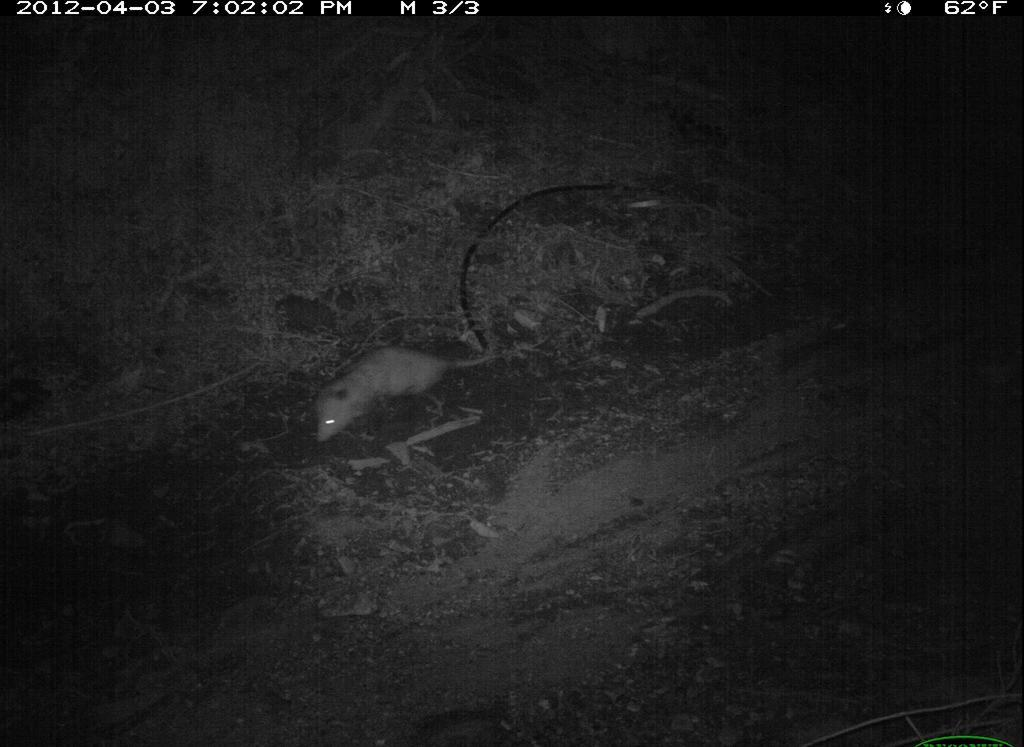opossum: (282, 319, 523, 451)
